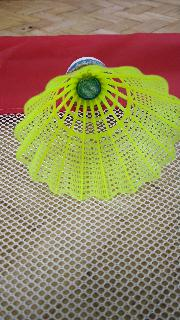shuttlecock: (14, 55, 180, 199)
